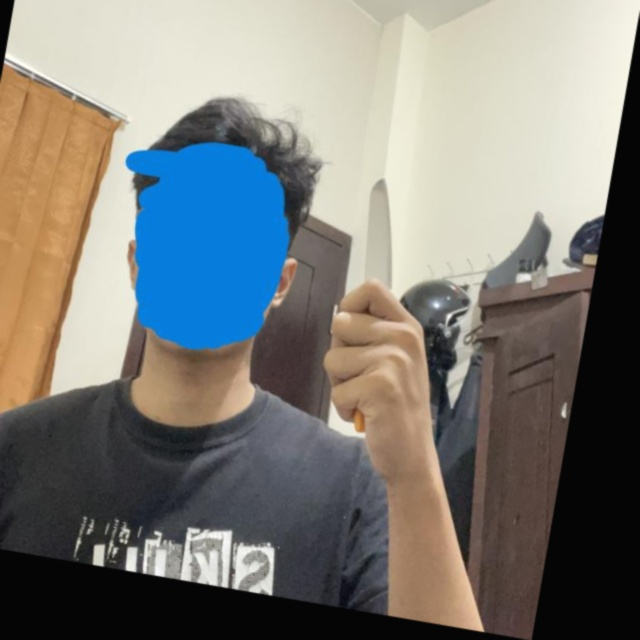Sharp-Object: (353, 174, 415, 294)
